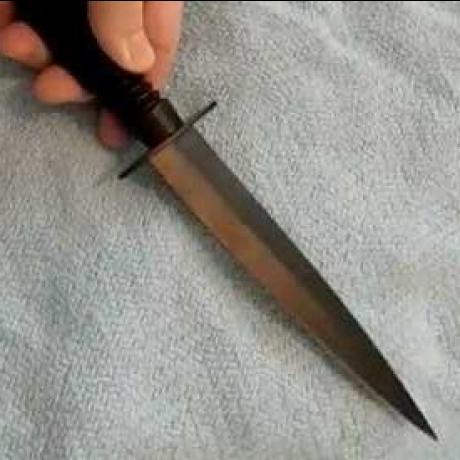weapon: (11, 0, 442, 442)
